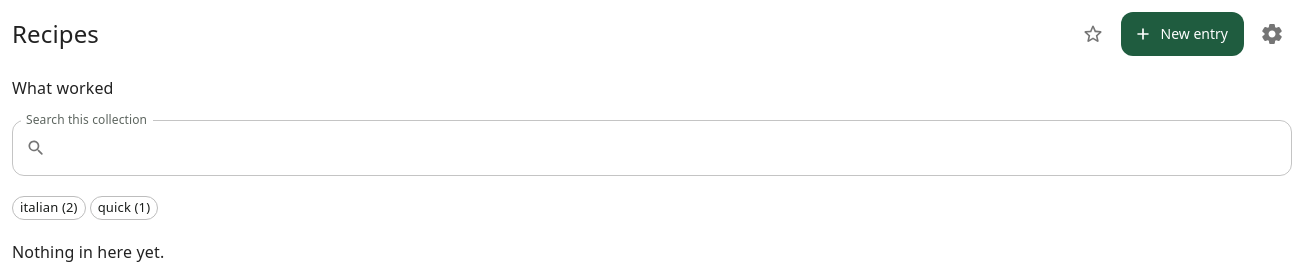
CollectionDetailPage › distinguishes an empty collection from an empty search
Check: the text "Nothing in here yet." is shown, box left=12, top=241, right=164, bottom=263
Step 1. Type "zzz" into the field labelled "Search this collection" → coordinates (673, 148), box left=54, top=120, right=1292, bottom=176
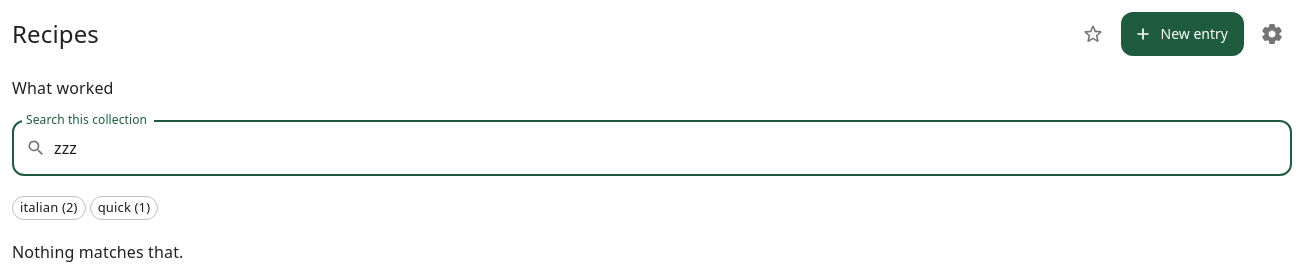
Check: the text "Nothing matches that." is shown, box left=12, top=241, right=184, bottom=263
